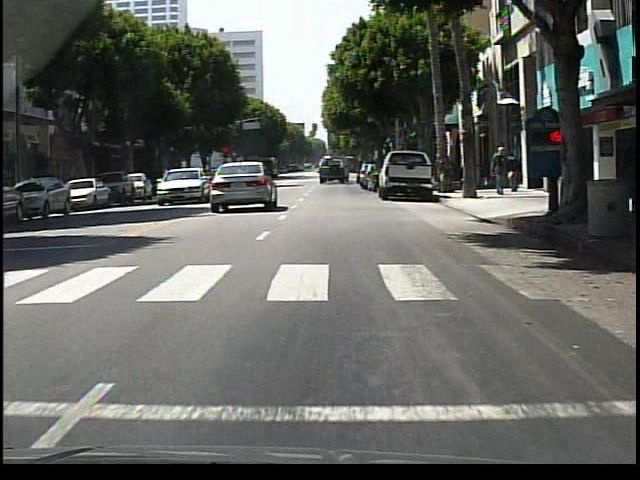person: (491, 146, 510, 198), (506, 151, 520, 194), (239, 160, 251, 203)
